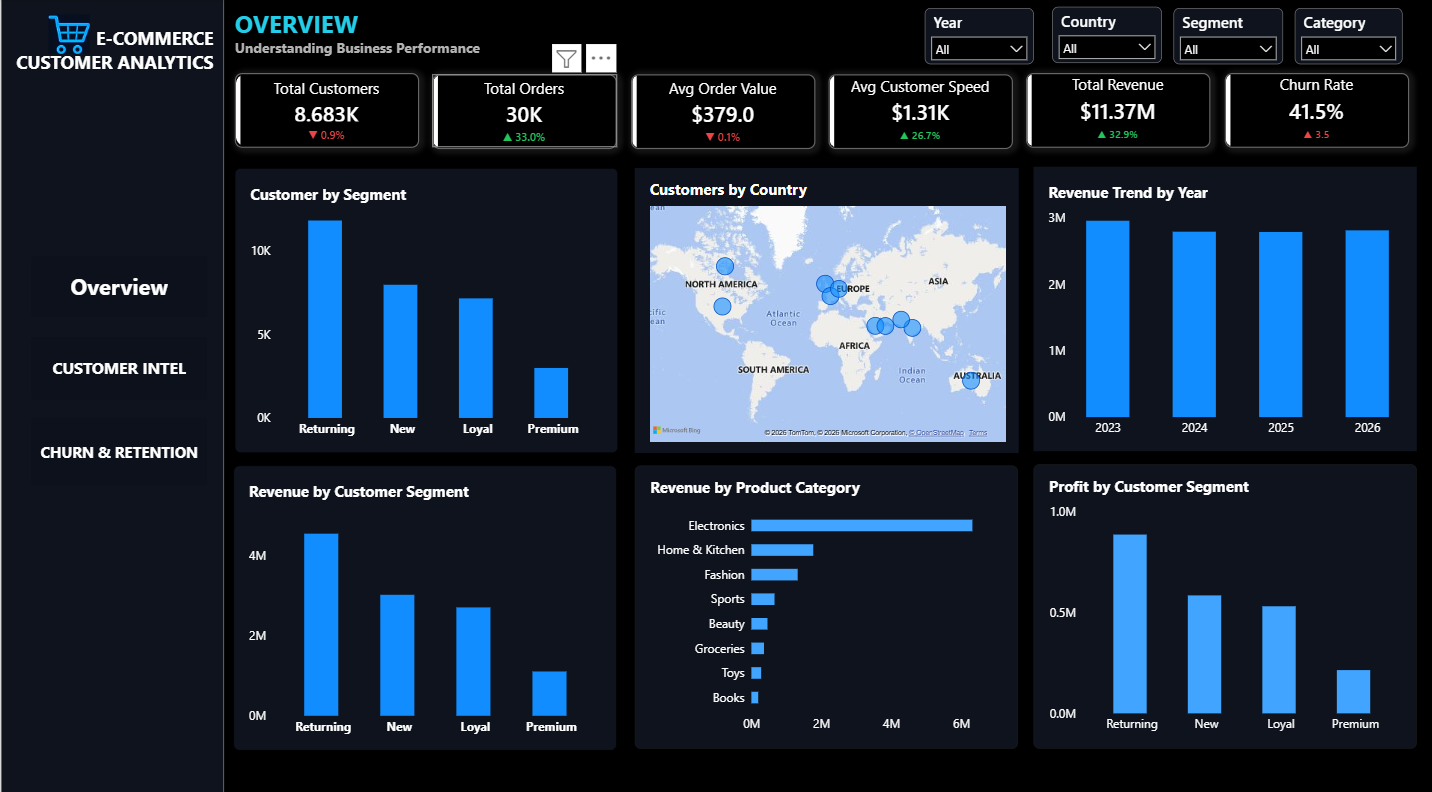

The dashboard page shown, as its layout file describes it:
{"tool":"powerbi","page":{"name":"Overview","canvas":[1920,1080],"ordinal":0},"visuals":[{"type":"cardVisual","fields":{"Data":["E-COM.Total Customers"]},"box":[312,100.8,246,100],"z":0},{"type":"cardVisual","fields":{"Data":["E-COM.Total Orders"]},"box":[576.4,101.2,246,100],"z":1000},{"type":"cardVisual","fields":{"Data":["Sum(E-COM.ORDER_AMOUNT)"]},"box":[1369.6,100,246,100],"z":2000},{"type":"cardVisual","fields":{"Data":["E-COM.Average Order Value"]},"box":[840.8,101.6,246,100],"z":3000},{"type":"cardVisual","fields":{"Data":["E-COM.Avg Customer Lifetime Value"]},"box":[1105.2,102,246,100],"z":4000},{"type":"cardVisual","fields":{"Data":["E-COM.Churn Rate"]},"box":[1634,100.4,246,100],"z":5000},{"type":"map","title":"Customers by Country","fields":{"Category":["E-COM.COUNTRY"],"Size":["CountNonNull(E-COM.CUSTOMER_ID)"]},"box":[846.8,226.4,512,380],"z":6000},{"type":"clusteredColumnChart","title":"Revenue Trend by Year","fields":{"Y":["E-COM.Total Revenue"],"Category":["Calendar.Date.Variation.Date Hierarchy.Year"]},"box":[1380,226,512,380],"z":7000},{"type":"clusteredColumnChart","title":"Revenue by Customer Segment","fields":{"Category":["E-COM.Latest Customer Segment"],"Y":["E-COM.Total Revenue"]},"box":[311.3,624.5,512,381.1],"z":8000},{"type":"slicer","fields":{"Values":["E-COM.COUNTRY"]},"box":[1404,12.3,146,75],"z":9000},{"type":"slicer","fields":{"Values":["Calendar.Date.Variation.Date Hierarchy.Year"]},"box":[1234,13.2,145.3,75],"z":10000},{"type":"slicer","fields":{"Values":["E-COM.PRODUCT_CATEGORY"]},"box":[1728,13.6,144,75],"z":11000},{"type":"slicer","fields":{"Values":["E-COM.CUSTOMER_SEGMENT"]},"box":[1566,12.9,146,75],"z":12000},{"type":"clusteredColumnChart","title":"Profit by Customer Segment","fields":{"Category":["E-COM.Latest Customer Segment"],"Y":["Sum(E-COM.PROFIT_AMOUNT)"]},"box":[1380,622,512,380],"z":13000},{"type":"barChart","title":"Revenue by Product Category","fields":{"Category":["E-COM.PRODUCT_CATEGORY"],"Y":["E-COM.Total Revenue"]},"box":[846,624,512,378],"z":14000},{"type":"shape","box":[0,0,298,1080],"z":15000},{"type":"textbox","box":[0,0,284,120],"z":16000},{"type":"image","box":[40,22.1,101.4,52.9],"z":17000},{"type":"actionButton","box":[39.6,452.8,235.8,84.9],"z":18000},{"type":"actionButton","box":[39.6,560.4,235.8,90.6],"z":19000},{"type":"textbox","box":[312,12,794,108],"z":20000},{"type":"actionButton","box":[39.6,343.4,235.8,83],"z":21000},{"type":"clusteredColumnChart","title":" Customer by Segment","fields":{"Category":["E-COM.Latest Customer Segment"],"Y":["CountNonNull(E-COM.CUSTOMER_ID)"]},"box":[312.2,227.1,512,380.7],"z":22000}]}

Visuals, with their boxes in screenshot pixels (x1, y1, x2, y2), scaled from the page's 1920x1080 canvas onto the 1432x792 screenshot:
cardVisual - E-COM.Total Customers: (x1=233, y1=74, x2=416, y2=147)
cardVisual - E-COM.Total Orders: (x1=430, y1=74, x2=613, y2=148)
cardVisual - Sum(E-COM.ORDER_AMOUNT): (x1=1021, y1=73, x2=1205, y2=147)
cardVisual - E-COM.Average Order Value: (x1=627, y1=75, x2=811, y2=148)
cardVisual - E-COM.Avg Customer Lifetime Value: (x1=824, y1=75, x2=1008, y2=148)
cardVisual - E-COM.Churn Rate: (x1=1219, y1=74, x2=1402, y2=147)
"Customers by Country" map: (x1=632, y1=166, x2=1013, y2=445)
"Revenue Trend by Year" clusteredColumnChart: (x1=1029, y1=166, x2=1411, y2=444)
"Revenue by Customer Segment" clusteredColumnChart: (x1=232, y1=458, x2=614, y2=737)
slicer - E-COM.COUNTRY: (x1=1047, y1=9, x2=1156, y2=64)
slicer - Calendar.Date.Variation.Date Hierarchy.Year: (x1=920, y1=10, x2=1029, y2=65)
slicer - E-COM.PRODUCT_CATEGORY: (x1=1289, y1=10, x2=1396, y2=65)
slicer - E-COM.CUSTOMER_SEGMENT: (x1=1168, y1=9, x2=1277, y2=64)
"Profit by Customer Segment" clusteredColumnChart: (x1=1029, y1=456, x2=1411, y2=735)
"Revenue by Product Category" barChart: (x1=631, y1=458, x2=1013, y2=735)
shape: (x1=0, y1=0, x2=222, y2=791)
textbox: (x1=0, y1=0, x2=212, y2=88)
image: (x1=30, y1=16, x2=105, y2=55)
actionButton: (x1=30, y1=332, x2=205, y2=394)
actionButton: (x1=30, y1=411, x2=205, y2=477)
textbox: (x1=233, y1=9, x2=825, y2=88)
actionButton: (x1=30, y1=252, x2=205, y2=313)
" Customer by Segment" clusteredColumnChart: (x1=233, y1=167, x2=615, y2=446)
